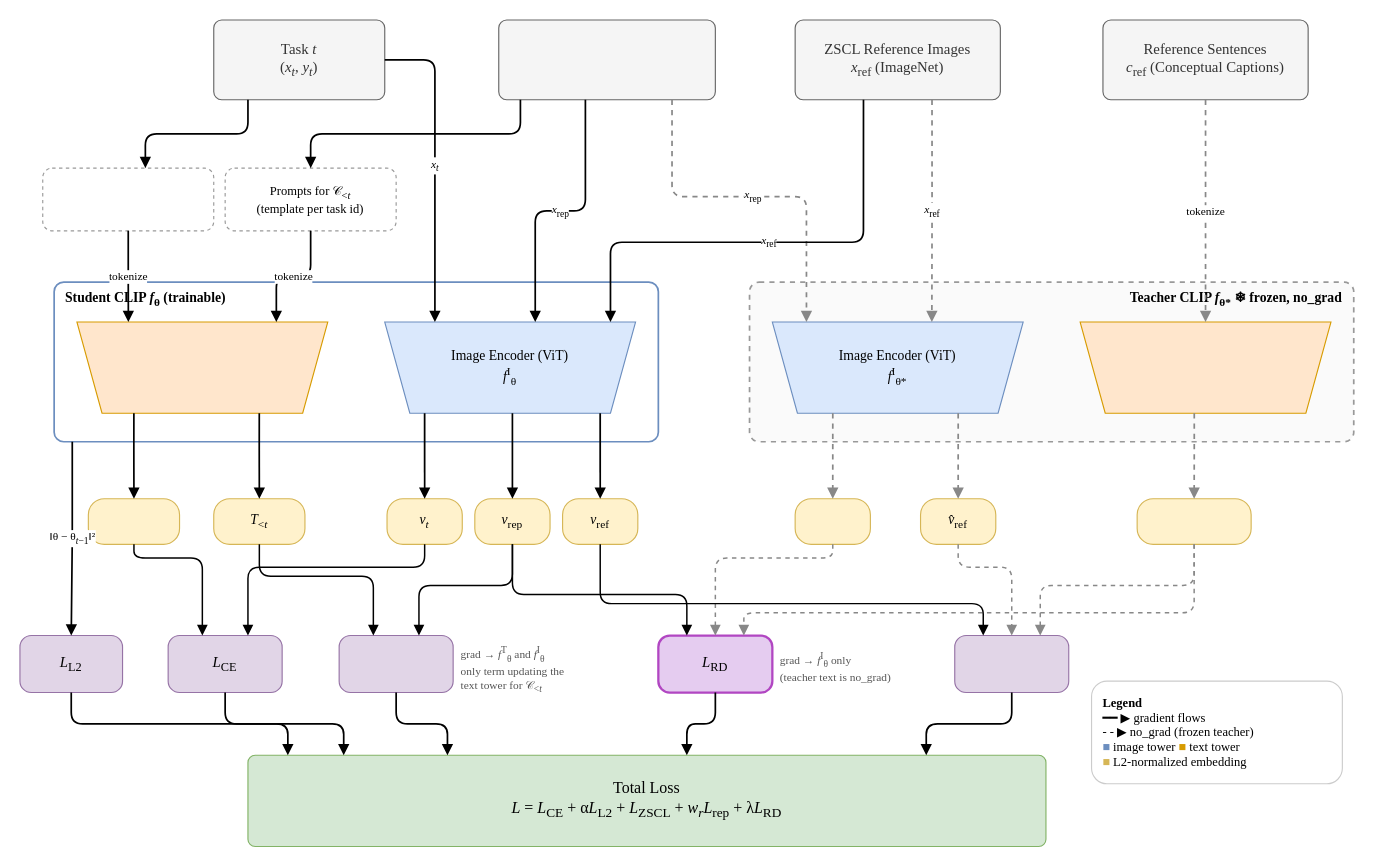
The diagram is 1375 pixels wide and 866 high, and some of its shapes have lost their labels. Each missing label, with the box of its shape:
L rep: (338, 634, 453, 693)
L ZSCL: (954, 634, 1069, 693)
Prompts for 𝒞 t "a photo of a {c}": (42, 167, 214, 231)
Replay Buffer ( x rep , y rep , task id) Budget B = 11,000: (498, 19, 715, 100)
T t: (87, 498, 180, 544)
Text Transformer f T θ: (76, 321, 328, 413)
Text Transformer f T θ*: (1079, 321, 1331, 413)
T̂ ref (cached): (1136, 498, 1251, 544)
v̂ rep: (794, 498, 870, 544)
